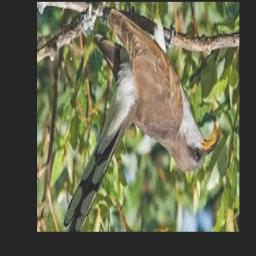Cuckoo: (64, 10, 220, 232)
